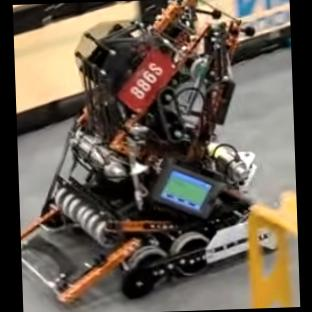Robot: (19, 0, 255, 303)
